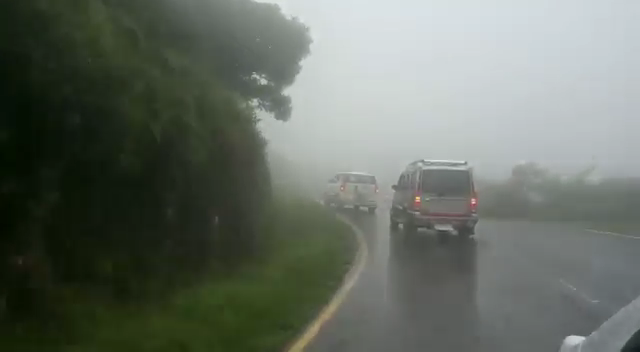car: (388, 159, 480, 238), (324, 172, 380, 214)
